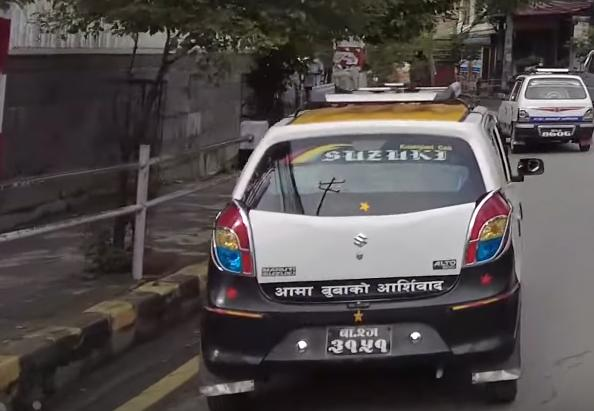taxi: (188, 79, 541, 404), (497, 66, 594, 153)
